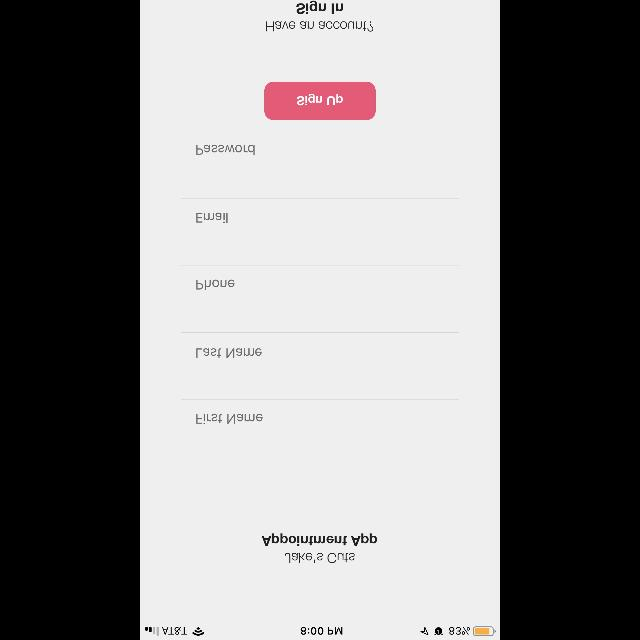input: (182, 130, 458, 156), (182, 197, 458, 223), (182, 332, 458, 358), (182, 266, 458, 290), (182, 400, 458, 424)
text: (262, 532, 378, 546), (266, 20, 374, 32), (285, 552, 355, 564), (197, 144, 256, 156), (296, 0, 344, 14), (196, 348, 262, 358), (196, 414, 262, 424), (196, 212, 228, 224), (197, 280, 235, 290)
textbutton: (264, 82, 376, 120)
uppertaskbar: (140, 626, 500, 640)
